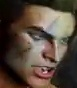kevin: (12, 3, 74, 85)
